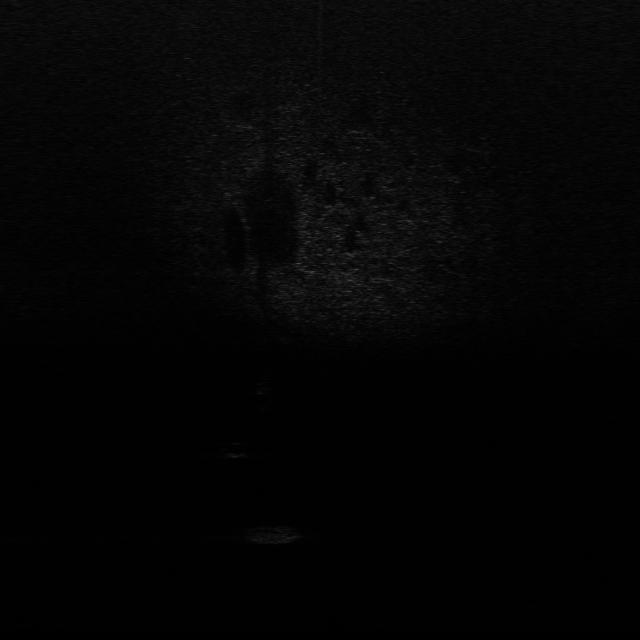ball: (220, 439, 250, 462)
circle cage: (234, 522, 318, 544)
human body: (252, 367, 278, 416)
